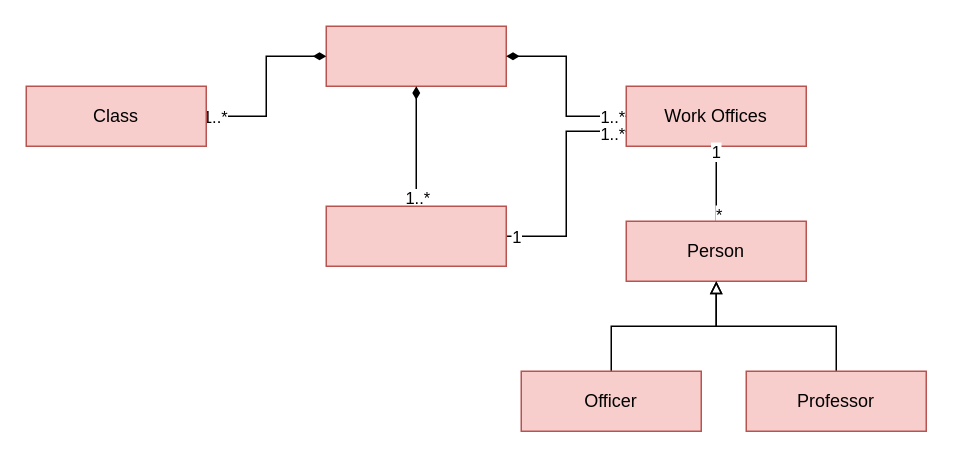
This 953x458 diagram has some shape labels left out. The shapes that lost their labels are listed below. From the top down, each one's centre as x and y in pixels, then its label:
At pixel 415 55: "University".
At pixel 415 235: "Department".
